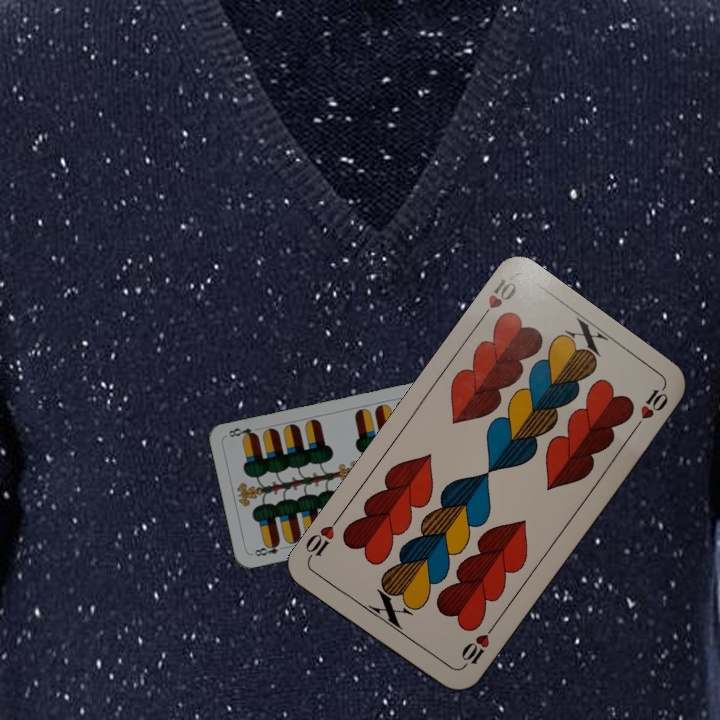E8: (249, 538, 289, 559)
H10: (473, 274, 521, 326), (457, 621, 498, 672)
